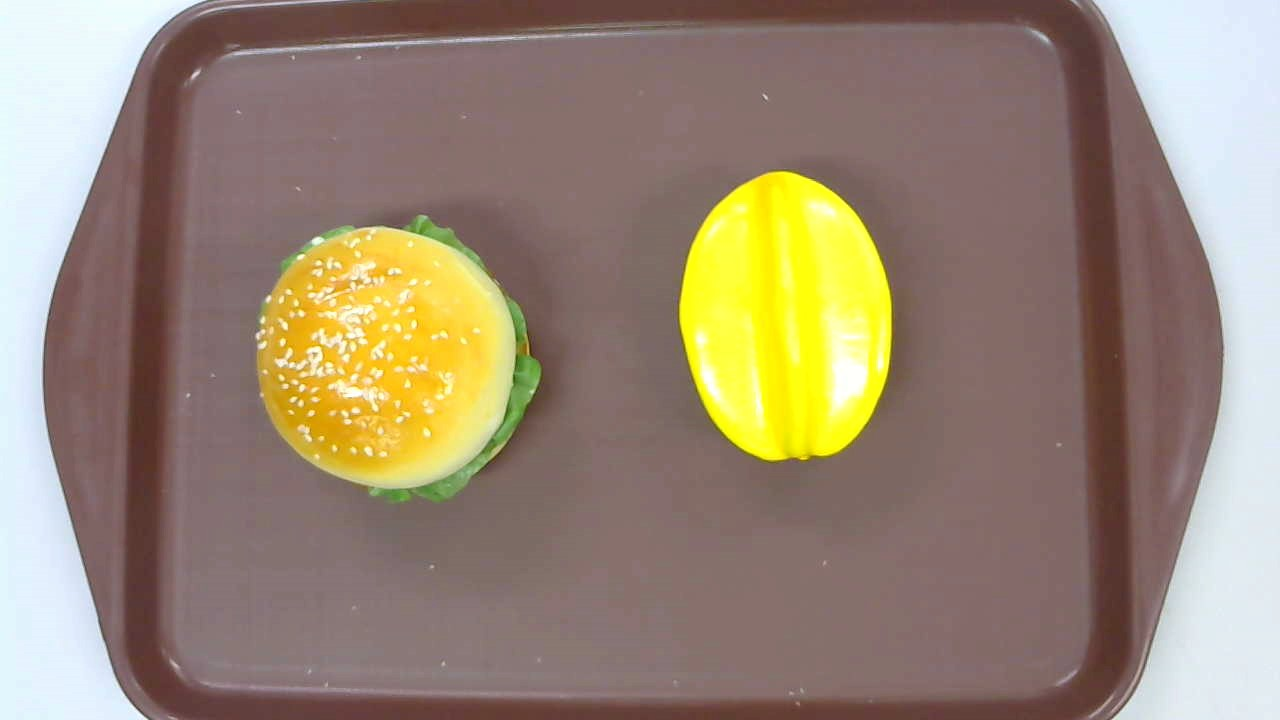hamburger: (253, 216, 541, 504)
star fruit: (680, 172, 891, 464)
